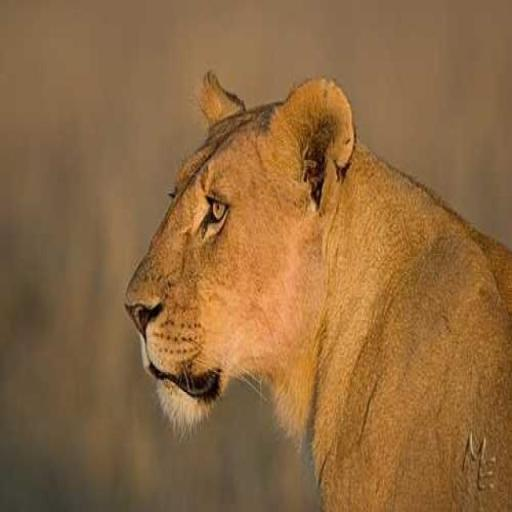Lion: (121, 68, 511, 510)
